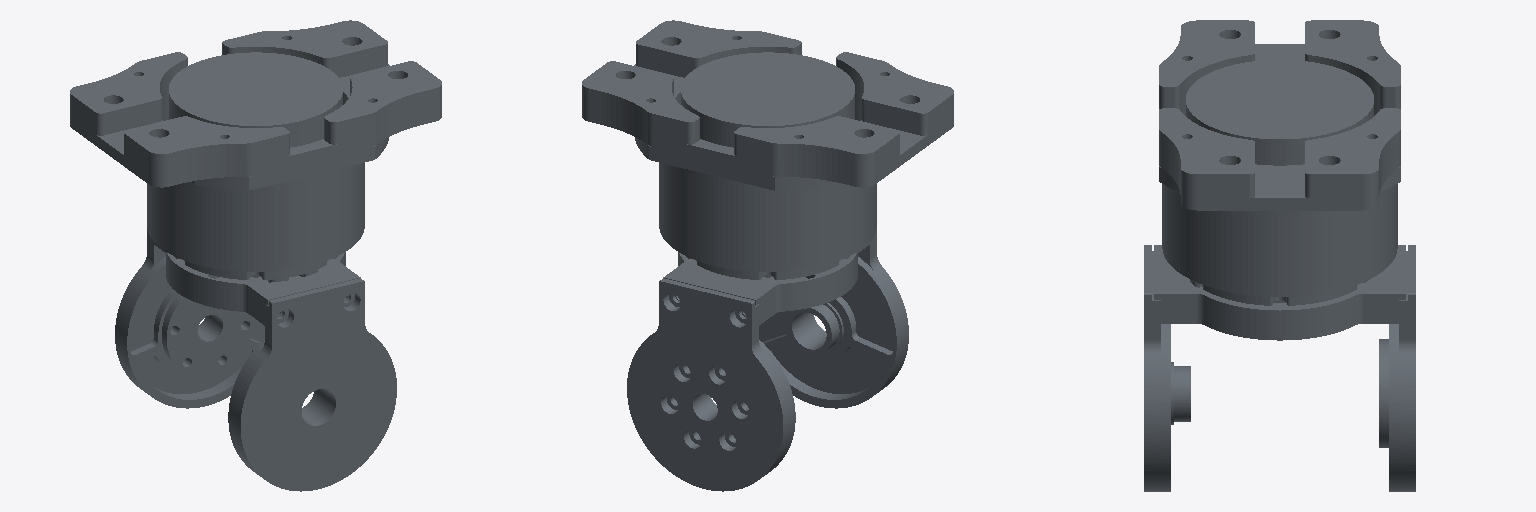
robot.urdf — openarm_two_arms:
<?xml version="1.0" ?>
<robot name="openarm_two_arms">
  <link name="l_base_link001">
      <visual>
        <!--base_link001/Part__Feature018.-->
        <origin rpy="3.1415926535897927 0 0" xyz="0.0 0.0 0.0007"/>
        <geometry>
          <mesh filename="package://openarm_two_arms/meshes/full_upper_base_link_int1ku.dae"/>
        </geometry>
      </visual>
      <collision>
        <!--bound_obj__left_link1__col_base_link__BoundBox/col_base_link__BoundBox.-->
        <origin rpy="3.1415926535897927 0 0" xyz="0.0 0.0 -0.0289"/>
        <geometry>
          <box size="0.11 0.073 0.0592"/>
        </geometry>
      </collision>
      <inertial>
        <mass value="0.5769283920617254"/>
        <origin rpy="3.1415926535897927 0 0" xyz="0.0 -2.52845e-05 -0.0229621"/>
        <inertia ixx="0.00034035167574060564" ixy="-2.642617350904103e-18" ixz="-6.153994863823447e-18" iyy="0.00043000583000101937" iyz="-5.098294820747963e-07" izz="0.0004802171432001997"/>
      </inertial>
    </link>
    <link name="l_J2_v003">
      <visual>
        <!--J2 v003/Part__Feature019.-->
        <origin rpy="0 0 0" xyz="0.0 0.0 -0.05395"/>
        <geometry>
          <mesh filename="package://openarm_two_arms/meshes/full_upper_j2v2_gscnlc.dae"/>
        </geometry>
      </visual>
      <collision>
        <!--bound_obj__left_link2__col_J2_v2__BoundBox/col_J2_v2__BoundBox.-->
        <origin rpy="0 0 0" xyz="0.0 0.0 0.0371236"/>
        <geometry>
          <box size="0.059000000014901216 0.08200000000000003 0.0742471498637348"/>
        </geometry>
      </collision>
      <inertial>
        <mass value="0.16257504134917358"/>
        <origin rpy="0 0 0" xyz="0.000225878 0.00183836 0.0278368"/>
        <inertia ixx="0.00023903110213294341" ixy="-7.551692921099009e-08" ixz="1.128272336243354e-06" iyy="0.00010490798314778747" iyz="-5.907962783972549e-06" izz="0.00019737368685935768"/>
      </inertial>
    </link>
    <link name="l_J3_v004">
      <visual>
        <!--J3 v004/Part__Feature020.-->
        <origin rpy="1.5707963267948963 0 0" xyz="0.0 0.0987 -0.02975"/>
        <geometry>
          <mesh filename="package://openarm_two_arms/meshes/full_upper_j3v005_2vn1gz.dae"/>
        </geometry>
      </visual>
      <collision>
        <!--bound_obj__left_link3__col_J3_v003__BoundBox/col_J3_v003__BoundBox.-->
        <origin rpy="1.5707963267948961 0 0" xyz="0.0164466 -0.00044972 -0.02975"/>
        <geometry>
          <box size="0.0898910738785183 0.06999999999999985 0.05902136986134156"/>
        </geometry>
      </collision>
      <inertial>
        <mass value="0.42038984024444975"/>
        <origin rpy="1.5707963267948961 0 0" xyz="0.00686697 0.0 -0.0282662"/>
        <inertia ixx="0.00020276573635381913" ixy="5.353124426981602e-06" ixz="-1.2309719752249493e-06" iyy="0.0002972732820435537" iyz="-4.96881827890621e-07" izz="0.00032917425408263227"/>
      </inertial>
    </link>
    <link name="l_J4_v003">
      <visual>
        <!--J4 v003/Part__Feature021.-->
        <origin rpy="0 -1.5620381439005744 0" xyz="0.0986962 0.0 -0.0621144"/>
        <geometry>
          <mesh filename="package://openarm_two_arms/meshes/full_upper_j4v2_tzaxwp.dae"/>
        </geometry>
      </visual>
      <collision>
        <!--bound_obj__left_link4__col_J4_v2__BoundBox/col_J4_v2__BoundBox.-->
        <origin rpy="0 -1.5620381439005742 0" xyz="-0.000261608 0.0125645 0.132604"/>
        <geometry>
          <box size="0.27584679830769426 0.08211367789676165 0.07185639591248483"/>
        </geometry>
      </collision>
      <inertial>
        <mass value="0.8196402299327217"/>
        <origin rpy="0 -1.5620381439005742 0" xyz="0.000770085 0.00195314 0.132431"/>
        <inertia ixx="0.0004386639666889925" ixy="-6.080385269207883e-05" ixz="-7.68782221495183e-06" iyy="0.009210551548719602" iyz="-2.7878027653992583e-06" izz="0.00917471125137894"/>
      </inertial>
    </link>
    <link name="l_J5_v004">
      <visual>
        <!--J5 v004/Part__Feature022.-->
        <origin rpy="0 0.008758182894352118 0" xyz="-0.303864 0.0 -0.0689415"/>
        <geometry>
          <mesh filename="package://openarm_two_arms/meshes/full_upper_j5v005_didwyo.dae"/>
        </geometry>
      </visual>
      <collision>
        <!--bound_obj__left_link5__col_J5_v003__BoundBox/col_J5_v003__BoundBox.-->
        <origin rpy="0 0.008758182894352025 0" xyz="0.0539601 0.00265291 0.02931"/>
        <geometry>
          <box size="0.1676296341613413 0.06430555048399128 0.08257859967140607"/>
        </geometry>
      </collision>
      <inertial>
        <mass value="0.40867482543516"/>
        <origin rpy="0 0.008758182894352111 0" xyz="0.0831878 0.00261036 0.0290107"/>
        <inertia ixx="0.0003150152720598943" ixy="9.43251788631792e-06" ixz="-3.2155516327367085e-05" iyy="0.0012216556466064033" iyz="-1.3129824233752054e-06" izz="0.0010745148965932514"/>
      </inertial>
    </link>
    <link name="l_J6_Left_v004">
      <visual>
        <!--J6_Left v004/Part__Feature023.-->
        <origin rpy="1.013924674457276 -1.5542266826921816 0" xyz="0.0485412 0.0860404 -0.437784"/>
        <geometry>
          <mesh filename="package://openarm_two_arms/meshes/full_upper_j6_leftv005_f8km11.dae"/>
        </geometry>
      </visual>
      <collision>
        <!--bound_obj__left_link6__col_J6_Left_v003__BoundBox/col_J6_Left_v003__BoundBox.-->
        <origin rpy="1.0139246744572885 -1.5542266826921818 0" xyz="0.00260793 0.0031292 0.0652641"/>
        <geometry>
          <box size="0.1311435300470597 0.059534783253118076 0.08817198167731641"/>
        </geometry>
      </collision>
      <inertial>
        <mass value="0.34433331594607314"/>
        <origin rpy="1.0139246744572885 -1.5542266826921818 0" xyz="0.00885434 0.0135457 0.0439"/>
        <inertia ixx="0.00019315823092440877" ixy="5.759960919860601e-07" ixz="3.928258332297235e-05" iyy="0.0003489300226703872" iyz="5.3866492677574926e-06" izz="0.00028834862800848534"/>
      </inertial>
    </link>
    <link name="l_J7_Left_v004">
      <visual>
        <!--J7_Left v004/Part__Feature024.-->
        <origin rpy="0 0.008758182894514984 0" xyz="-0.558839 -0.00358671 -0.0632962"/>
        <geometry>
          <mesh filename="package://openarm_two_arms/meshes/full_upper_j7_leftv005_8ohvh2.dae"/>
        </geometry>
      </visual>
      <collision>
        <!--bound_obj__left_link7__col_J7_Left_v003__BoundBox/col_J7_Left_v003__BoundBox.-->
        <origin rpy="0 0.008758182894515429 0" xyz="0.000300274 0.00228799 0.0340015"/>
        <geometry>
          <box size="0.05859778949354245 0.04469786051400639 0.08267618289454949"/>
        </geometry>
      </collision>
      <inertial>
        <mass value="0.2782996911629702"/>
        <origin rpy="0 0.008758182894515356 0" xyz="-8.771e-05 0.00414153 0.035427"/>
        <inertia ixx="0.0001043910985422628" ixy="-4.0026347675757406e-07" ixz="1.0837675080533579e-07" iyy="0.00012327455405278424" iyz="-8.765964772332956e-08" izz="9.221516114206396e-05"/>
      </inertial>
    </link>
    <link name="l_J8_v003">
      <visual>
        <!--J8 v003/Part__Feature025.-->
        <origin rpy="1.570978323892347 0.02077671332575817 0" xyz="-0.557906 0.103687 0.0234745"/>
        <geometry>
          <mesh filename="package://openarm_two_arms/meshes/full_upper_j8v004_upij9o.dae"/>
        </geometry>
      </visual>
      <collision>
        <!--bound_obj__left_link8__col_J8_v002__BoundBox/col_J8_v002__BoundBox.-->
        <origin rpy="1.570978323892347 0.02077671332575817 0" xyz="0.0427524 -0.001079 0.0109925"/>
        <geometry>
          <box size="0.1302624002952524 0.052571684700854236 0.1601213740691585"/>
        </geometry>
      </collision>
      <inertial>
        <mass value="0.3126145274380216"/>
        <origin rpy="1.570978323892347 0.020776713325758166 0" xyz="0.0607568 -0.000722767 0.00876618"/>
        <inertia ixx="0.00023572179169416507" ixy="-7.789320420216956e-05" ixz="-2.111587909476847e-06" iyy="0.0005055124180887915" iyz="-1.5449610531695725e-06" izz="0.0003736712654123388"/>
      </inertial>
    </link>
    <link name="l_right_jaw_v004">
      <visual>
        <!--right_jaw v004/Part__Feature027.-->
        <origin rpy="3.141592653589774 0.008758182895214187 0" xyz="-0.662074 0.00352188 0.18819"/>
        <geometry>
          <mesh filename="package://openarm_two_arms/meshes/full_upper_right_jawv003_5v80f0.dae"/>
        </geometry>
      </visual>
      <collision>
        <!--bound_obj__left_right_jaw__col_right_jaw_v002_col_obj/col_right_jaw_v002_col_obj.-->
        <origin rpy="3.141592653589774 0.00875818289521427 0" xyz="-0.662074 0.00352188 0.18819"/>
        <geometry>
          <mesh filename="package://openarm_two_arms/meshes/full_upper_col_right_jaw_v002_col_obj_ln0sqy.dae"/>
        </geometry>
      </collision>
      <inertial>
        <mass value="0.042981665301134495"/>
        <origin rpy="3.141592653589774 0.008758182895214186 0" xyz="0.0189546 -0.00337688 0.0156207"/>
        <inertia ixx="1.1399290012366144e-05" ixy="2.1100277903741056e-06" ixz="3.6731039885335394e-06" iyy="2.38634020443188e-05" iyz="-3.5503706410916235e-07" izz="3.0396785775073194e-05"/>
      </inertial>
    </link>
    <link name="l_left_jaw_v004">
      <visual>
        <!--left_jaw v004/Part__Feature026.-->
        <origin rpy="3.141592653589789 0.00875818289443215 0" xyz="-0.664789 0.00352188 0.0332134"/>
        <geometry>
          <mesh filename="package://openarm_two_arms/meshes/full_upper_left_jawv003_9ggcxr.dae"/>
        </geometry>
      </visual>
      <collision>
        <!--bound_obj__left_left_jaw__col_left_jaw_v002_col_obj/col_left_jaw_v002_col_obj.-->
        <origin rpy="3.141592653589789 0.008758182894432077 0" xyz="-0.664789 0.00352188 0.0332134"/>
        <geometry>
          <mesh filename="package://openarm_two_arms/meshes/full_upper_col_left_jaw_v002_col_obj_he8av6.dae"/>
        </geometry>
      </collision>
      <inertial>
        <mass value="0.04297897856394934"/>
        <origin rpy="3.141592653589789 0.008758182894432148 0" xyz="0.0184958 0.00151751 -0.0162764"/>
        <inertia ixx="1.195285836430737e-05" ixy="-2.8053920115195855e-06" ixz="-3.983934744055433e-06" iyy="2.3656009736974273e-05" iyz="-4.864815166189635e-07" izz="3.047484533653199e-05"/>
      </inertial>
    </link>
    <joint name="left_rev1" type="revolute">
    <parent link="l_base_link001"/>
    <child link="l_J2_v003"/>
    <origin rpy="-3.1415926535897922 0 -3.1415926535897927" xyz="0.0 0.0 -0.05325"/>
    <axis xyz="0 0 1"/>
    <limit effort="0.0" lower="-2.0943951023931953" upper="2.0943951023931953" velocity="0.0"/>
  </joint>
  <joint name="left_rev2" type="revolute">
    <parent link="l_J2_v003"/>
    <child link="l_J3_v004"/>
    <origin rpy="-1.570796326794897 0 0" xyz="0.0 0.02975 0.04475"/>
    <axis xyz="0 0 1"/>
    <limit effort="0.0" lower="-3.141592653589793" upper="0.0" velocity="0.0"/>
  </joint>
  <joint name="left_rev3" type="revolute">
    <parent link="l_J3_v004"/>
    <child link="l_J4_v003"/>
    <origin rpy="1.5707963267949063 0 1.5620381439005797" xyz="0.0612477 -0.000536432 -0.02975"/>
    <axis xyz="0 0 1"/>
    <limit effort="0.0" lower="-3.6651914291880923" upper="0.5235987755982988" velocity="0.0"/>
  </joint>
  <joint name="left_rev4" type="revolute">
    <parent link="l_J4_v003"/>
    <child link="l_J5_v004"/>
    <origin rpy="-3.0383286058327292 -1.5707963267948855 3.038328605832587" xyz="0.0297547 0.0 0.24175"/>
    <axis xyz="0 0 1"/>
    <limit effort="0.0" lower="-2.792526803190927" upper="0.3490658503988659" velocity="0.0"/>
  </joint>
  <joint name="left_rev5" type="revolute">
    <parent link="l_J5_v004"/>
    <child link="l_J6_Left_v004"/>
    <origin rpy="-1.5707963267949232 0.55693325005308 -1.5567303253382712" xyz="0.133937 0.00188408 0.0297547"/>
    <axis xyz="0 0 1"/>
    <limit effort="0.0" lower="-2.0943951023931953" upper="2.0943951023931953" velocity="0.0"/>
  </joint>
  <joint name="left_rev6" type="revolute">
    <parent link="l_J6_Left_v004"/>
    <child link="l_J7_Left_v004"/>
    <origin rpy="1.5707963267870033 -1.5567303253382319 -0.5569332500457352" xyz="0.0187648 0.0301352 0.12105"/>
    <axis xyz="0 0 1"/>
    <limit effort="0.0" lower="-1.5707963267948966" upper="1.5707963267948966" velocity="0.0"/>
  </joint>
  <joint name="left_rev7" type="revolute">
    <parent link="l_J7_Left_v004"/>
    <child link="l_J8_v003"/>
    <origin rpy="-1.5707963267949518 0.008760073613296379 0.020777510312798276" xyz="0.000320989 -0.0154467 0.0355"/>
    <axis xyz="0 0 1"/>
    <limit effort="0.0" lower="-0.9599310885968813" upper="0.9599310885968813" velocity="0.0"/>
  </joint>
  <joint name="left_left_pris1" type="prismatic">
    <parent link="l_J8_v003"/>
    <child link="l_left_jaw_v004"/>
    <origin rpy="1.5707963267947693 0.020777510312786344 -0.008760073612368274" xyz="0.10571 -0.0786733 0.0132053"/>
    <axis xyz="0 0 1"/>
    <limit effort="0.0" lower="-0.045" upper="0.0" velocity="0.0"/>
  </joint>
  <joint name="left_right_pris2" type="prismatic">
    <parent link="l_J8_v003"/>
    <child link="l_right_jaw_v004"/>
    <origin rpy="1.5707963267948966 0.020777510312787576 -0.008760073613237863" xyz="0.1071 0.0763207 0.0132053"/>
    <axis xyz="0 0 1"/>
    <limit effort="0.0" lower="0.0" upper="0.045" velocity="0.0"/>
    <mimic joint="left_left_pris1" multiplier="-1.0" offset="0.0"/>
  </joint>
</robot>

--- Facts derived from the render (not from the file) ---
The picture shows the robot from 3 angles, left to right: view 1: azimuth 30°, elevation 25°; view 2: azimuth 150°, elevation 25°; view 3: azimuth 270°, elevation 25°; orthographic projection.
Model openarm_two_arms with 10 links and 9 joints (7 revolute, 2 prismatic), rooted at l_base_link001, posed all joints at 0.
Visible links, largest first — view 1: l_base_link001, l_J2_v003; view 2: l_base_link001, l_J2_v003; view 3: l_base_link001, l_J2_v003.
Boxes of the visible links, x1,y1,x2,y2 form: l_base_link001: [70, 20, 441, 282]; l_J2_v003: [115, 229, 396, 491]; l_base_link001: [582, 20, 953, 279]; l_J2_v003: [627, 229, 908, 491]; l_base_link001: [1159, 20, 1400, 305]; l_J2_v003: [1144, 245, 1415, 491].
Size in the robot's own frame: 0.11 by 0.082 by 0.1282 metres.
Meshes: 10 distinct files referenced, 2 mesh visuals loaded (2 Collada DAE); not drawn: 8 (reference not matched to a file when rendering).